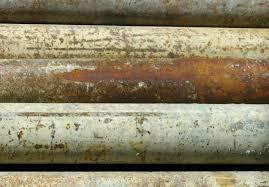Low: (51, 48, 269, 104)
